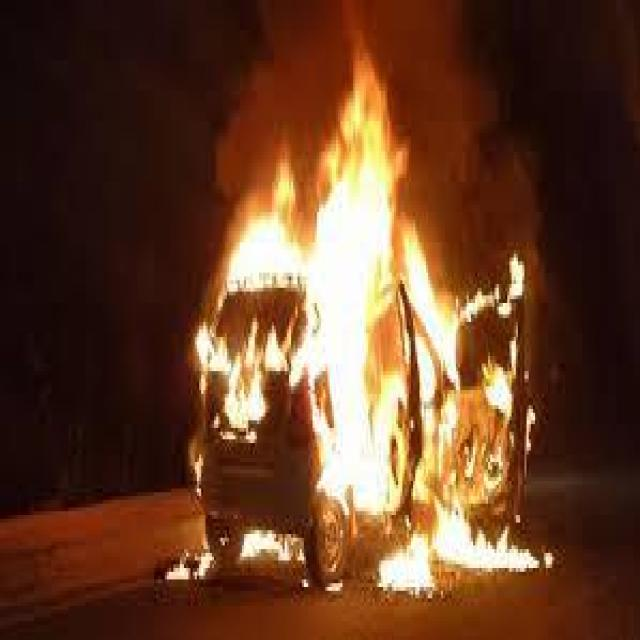fire: (216, 166, 543, 637), (321, 8, 423, 338)
